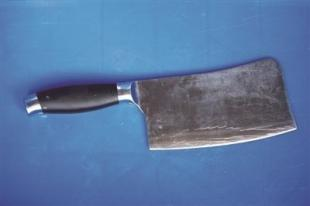knief: (15, 77, 301, 147)
